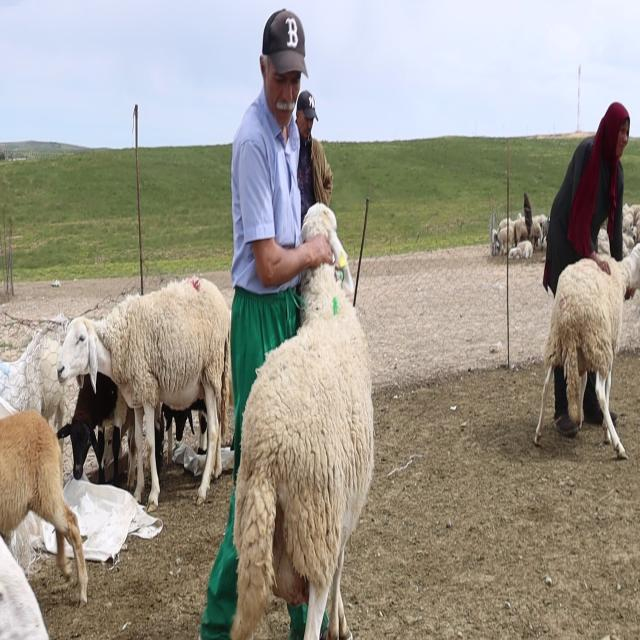Score_3: (230, 265, 374, 639)
